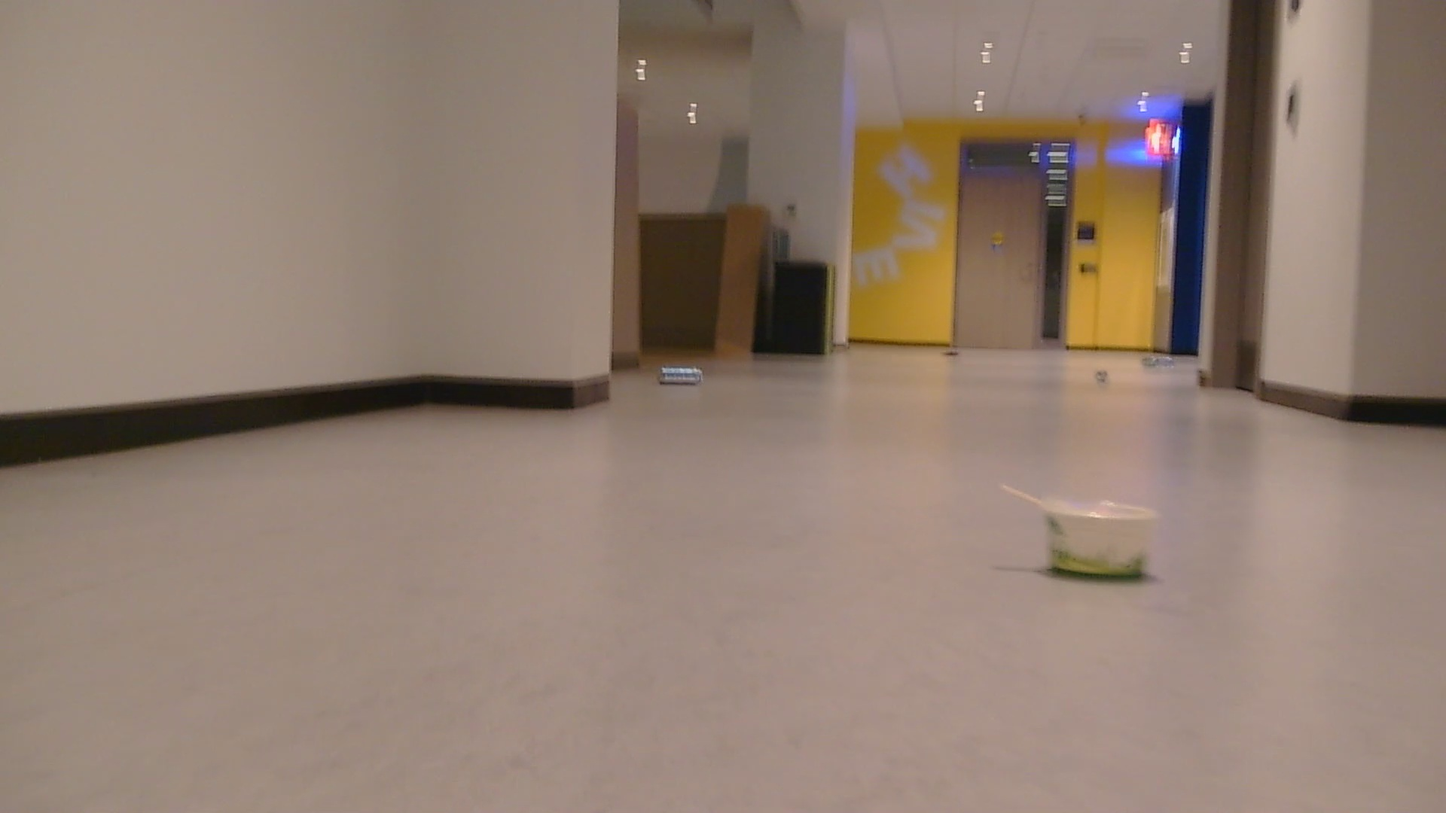carton: (1030, 503, 1167, 560), (655, 363, 703, 382), (1146, 352, 1176, 366), (1100, 367, 1119, 381), (934, 349, 962, 358)
